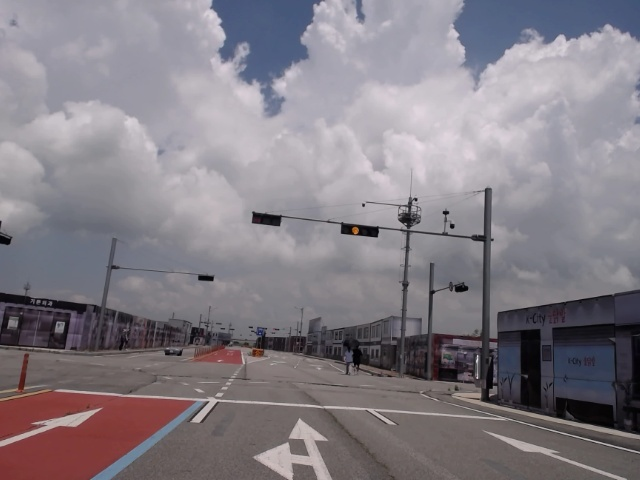orange_4: (342, 222, 380, 239)
